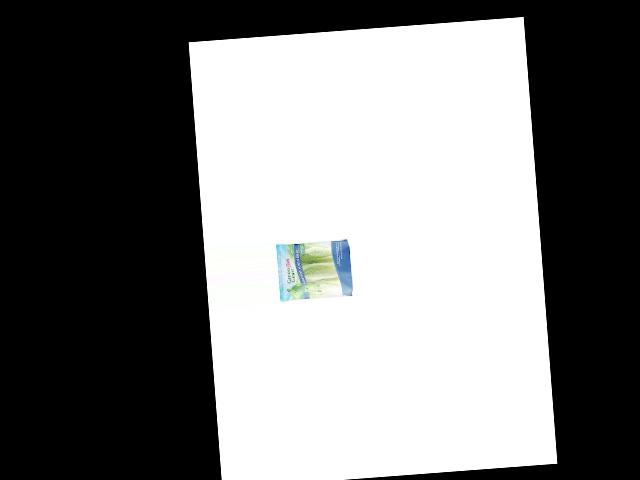lettuce: (279, 238, 356, 303)
